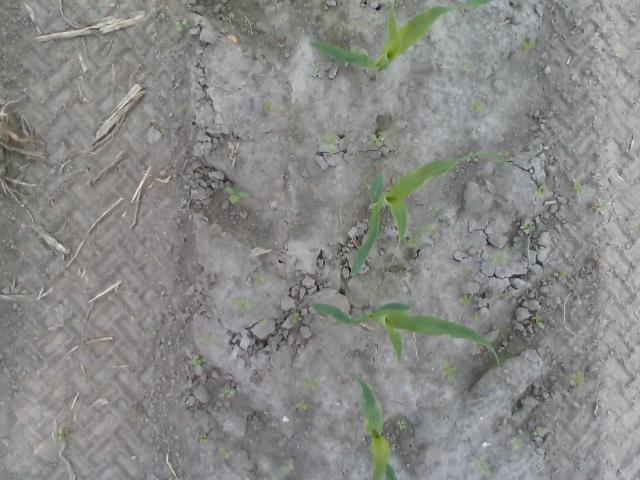Maize: (350, 151, 514, 278), (308, 300, 502, 374), (309, 2, 493, 80), (344, 373, 401, 480)
Weeds: (222, 186, 251, 206), (488, 249, 509, 271), (318, 134, 340, 154), (342, 44, 358, 69), (441, 361, 458, 383), (302, 376, 324, 392), (196, 332, 216, 348), (569, 370, 585, 390), (230, 296, 251, 311), (469, 98, 488, 114), (188, 354, 207, 369), (421, 222, 438, 238), (366, 134, 386, 147), (520, 218, 534, 236), (278, 458, 294, 473), (477, 459, 492, 475), (406, 236, 422, 250), (252, 270, 266, 286), (176, 19, 192, 33), (572, 179, 586, 195), (615, 44, 628, 61), (150, 3, 164, 18), (264, 98, 278, 112), (534, 184, 548, 198), (218, 446, 232, 460), (532, 315, 546, 329), (195, 432, 208, 446), (511, 437, 524, 451), (458, 294, 472, 307), (217, 389, 235, 399), (596, 199, 612, 210), (529, 428, 542, 441), (288, 310, 300, 324), (463, 59, 475, 72), (294, 401, 309, 411), (142, 330, 157, 340), (522, 40, 536, 50), (56, 426, 65, 441), (459, 266, 470, 278), (397, 418, 406, 432), (554, 272, 566, 281), (428, 204, 440, 213), (308, 61, 316, 74), (412, 382, 422, 391), (258, 475, 270, 480)
